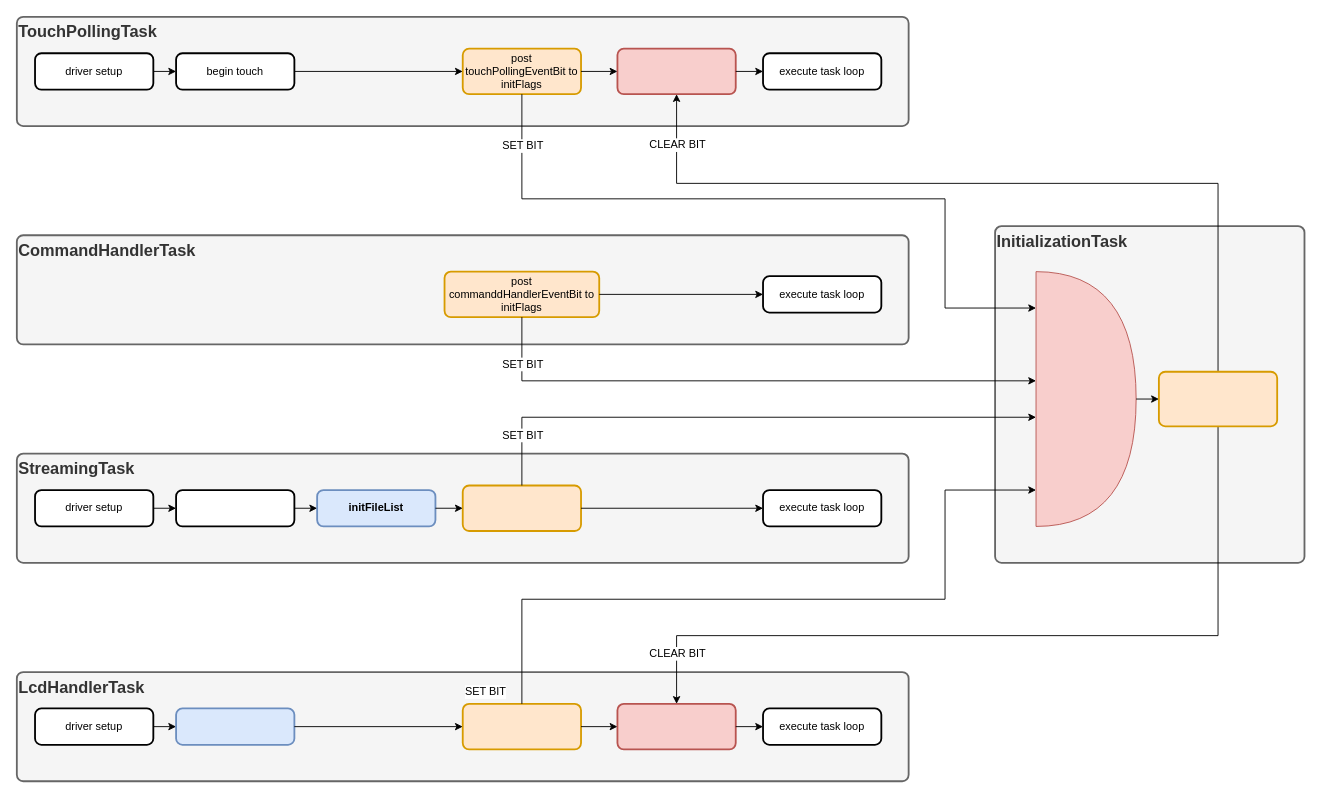
Some shapes in this 1320 by 797 pixel diagram are drawn without their labels. Here are the shapes that lost their labels. From the top down, the centre of each, then its label:
At (x=676, y=71): "pend on clear of touchPollingEventBit in initFlags".
At (x=1085, y=398): "pend on 0xF being set".
At (x=1218, y=398): "post clear of touchPolllingEventBit, LcdHandlerEventBit".
At (x=235, y=508): "initialize volume, mp3, SD card".
At (x=521, y=507): "post streamingEventBit to initFlags".
At (x=235, y=726): "drawLcdContents".
At (x=521, y=726): "post lcdHandlerEventBit to initFlags".
At (x=676, y=726): "pend on clear of lcdHandlerEventBit in initFlags".
